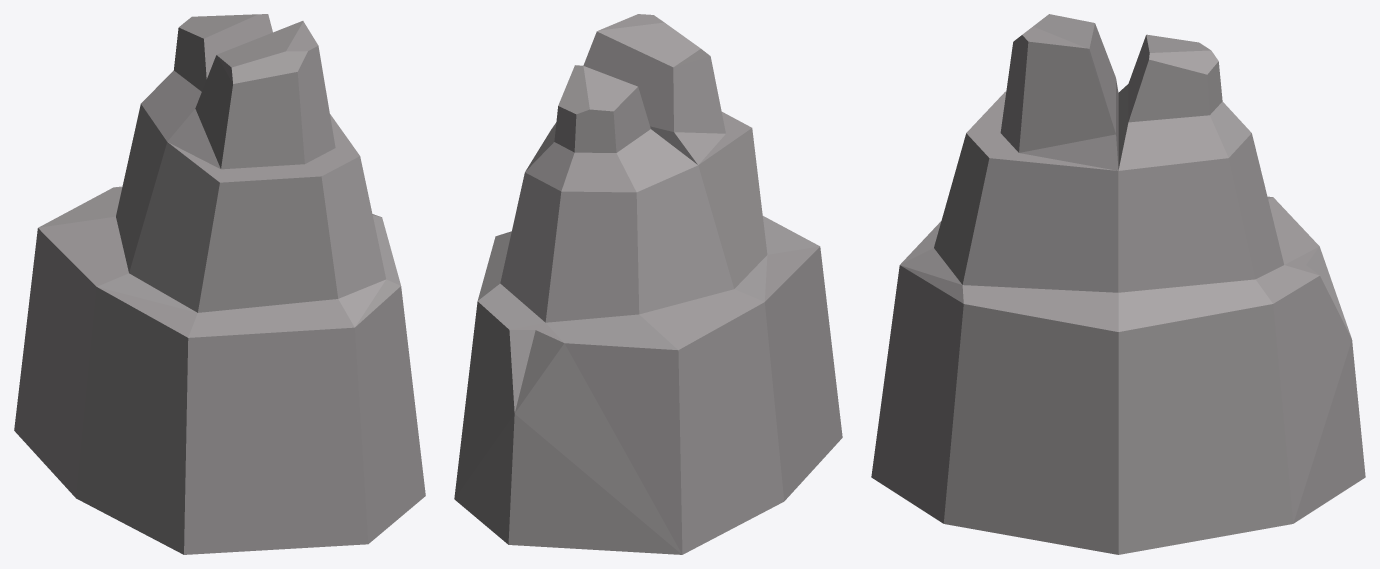
Rendered from Rock_Round_l_04 2.fbx.
3 views of the same model, side by side, from view 1: azimuth 30°, elevation 25°; view 2: azimuth 150°, elevation 25°; view 3: azimuth 270°, elevation 25° (orthographic). The views are drawn at different scales.
Visible parts, largest first — view 1: Rock_Round_l_04; view 2: Rock_Round_l_04; view 3: Rock_Round_l_04.
Part boxes in pixels (box(x1,y1,x2,y2)): Rock_Round_l_04: box(14, 14, 425, 554); Rock_Round_l_04: box(454, 14, 842, 554); Rock_Round_l_04: box(871, 14, 1365, 554).
Size of the model in its own units: 151 by 193 by 192.
